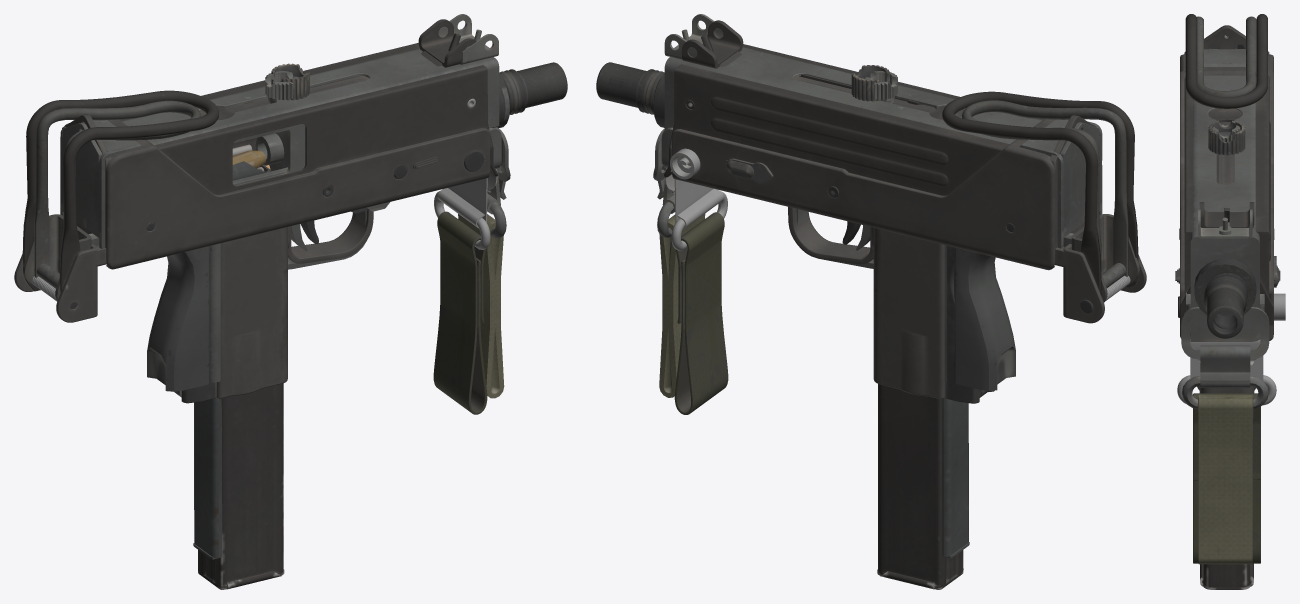
The model's file is weapon_mac10.glb.
3 renders of one model, left to right at view 1: azimuth 30°, elevation 25°; view 2: azimuth 150°, elevation 25°; view 3: azimuth 270°, elevation 25°, orthographic. The views are drawn at different scales.
Visible parts, largest first — view 1: weapons/models/mac10/weapon_smg_mac10.vmdl_c.body_hd, weapons/models/mac10/weapon_smg_mac10.vmdl_c.body_legacy; view 2: weapons/models/mac10/weapon_smg_mac10.vmdl_c.body_hd, weapons/models/mac10/weapon_smg_mac10.vmdl_c.body_legacy; view 3: weapons/models/mac10/weapon_smg_mac10.vmdl_c.body_legacy, weapons/models/mac10/weapon_smg_mac10.vmdl_c.body_hd.
Part boxes in pixels (left/top/right/bottom): weapons/models/mac10/weapon_smg_mac10.vmdl_c.body_hd: left=14, top=19, right=509, bottom=589; weapons/models/mac10/weapon_smg_mac10.vmdl_c.body_legacy: left=23, top=14, right=567, bottom=559; weapons/models/mac10/weapon_smg_mac10.vmdl_c.body_hd: left=608, top=20, right=1146, bottom=589; weapons/models/mac10/weapon_smg_mac10.vmdl_c.body_legacy: left=596, top=14, right=1139, bottom=558; weapons/models/mac10/weapon_smg_mac10.vmdl_c.body_legacy: left=1175, top=16, right=1275, bottom=564; weapons/models/mac10/weapon_smg_mac10.vmdl_c.body_hd: left=1177, top=14, right=1285, bottom=589.
Size of the model in its own units: 13.3 by 12.19 by 2.54.
2 materials, 2 textured.
